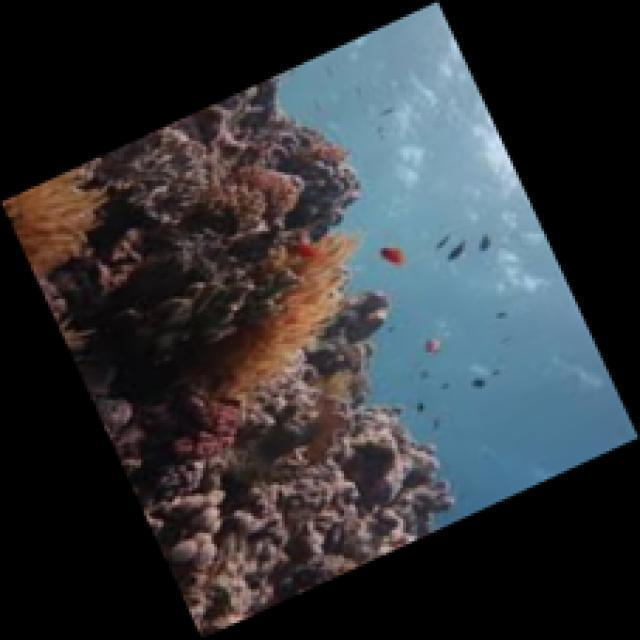Dead Coral: (48, 114, 388, 313), (139, 404, 446, 597)
